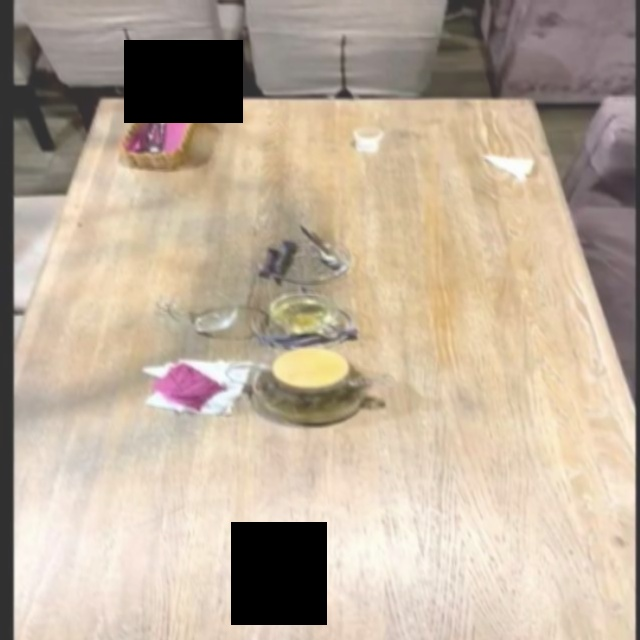tea: (248, 345, 373, 425)
